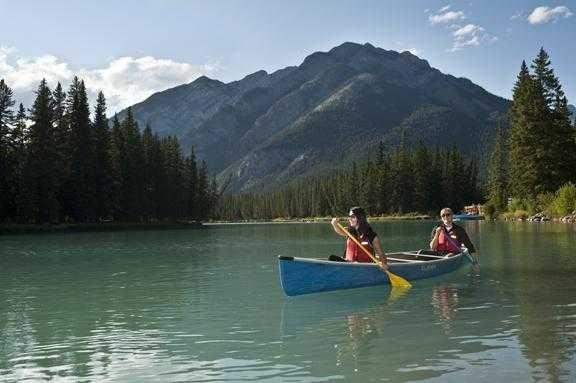kayak: (275, 248, 474, 297), (332, 208, 389, 269)
